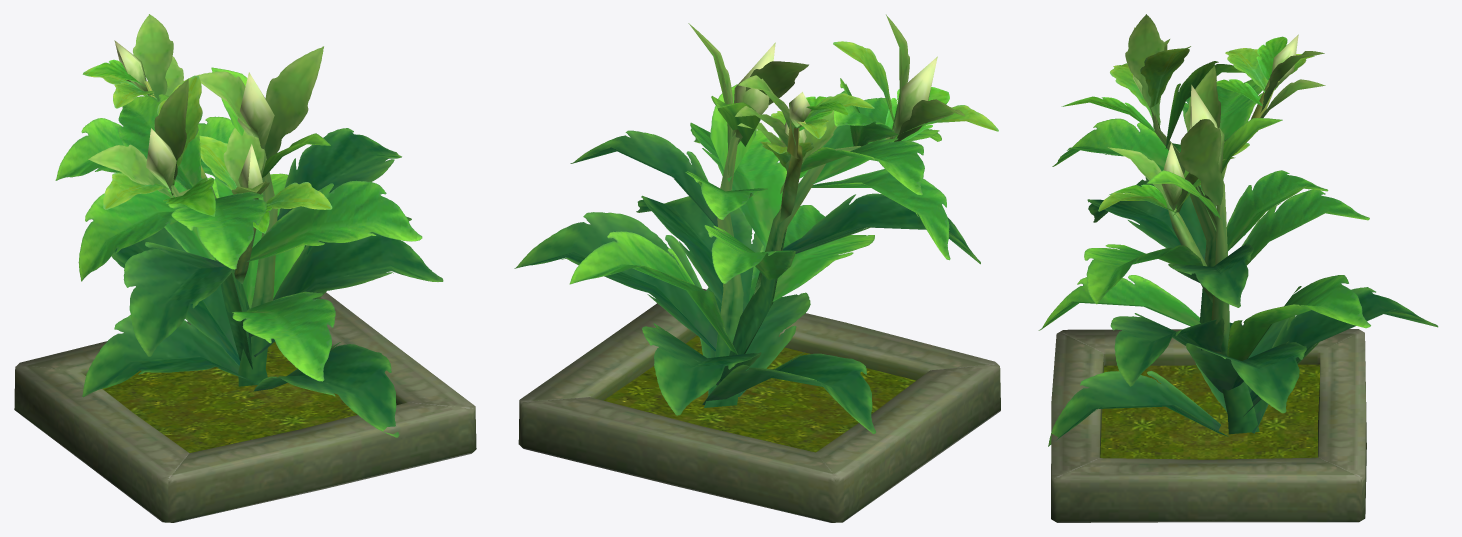
Rendered from S_Plant_Green010.FBX.
3 views of the same model, side by side, from view 1: azimuth 30°, elevation 25°; view 2: azimuth 150°, elevation 25°; view 3: azimuth 270°, elevation 25° (orthographic). The views are drawn at different scales.
Visible parts, largest first — view 1: S_Plant_Green010; view 2: S_Plant_Green010; view 3: S_Plant_Green010.
Boxes of the visible parts, bbox=[...] form: S_Plant_Green010: bbox=[14, 14, 476, 522]; S_Plant_Green010: bbox=[514, 14, 1000, 522]; S_Plant_Green010: bbox=[1038, 14, 1438, 522].
Bounding box in the file's own units: 211 × 208 × 192.
